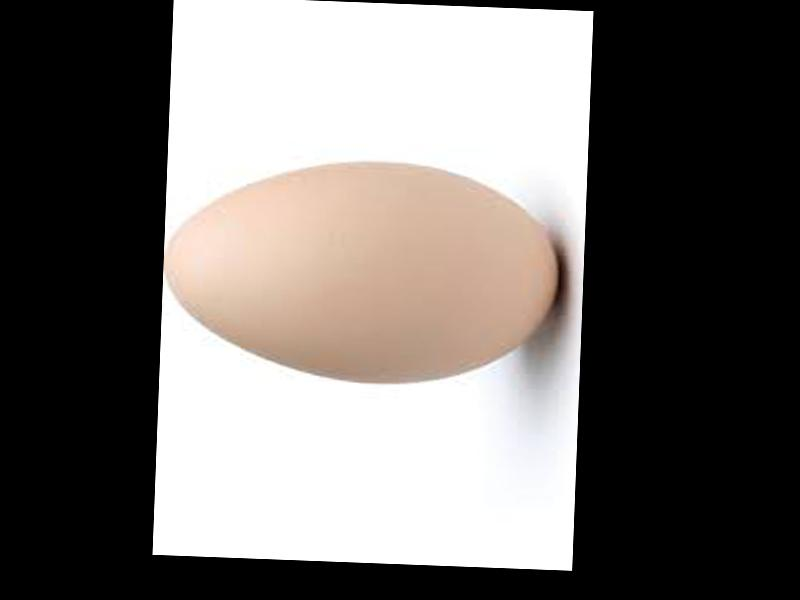Eggs: (162, 154, 567, 390)
